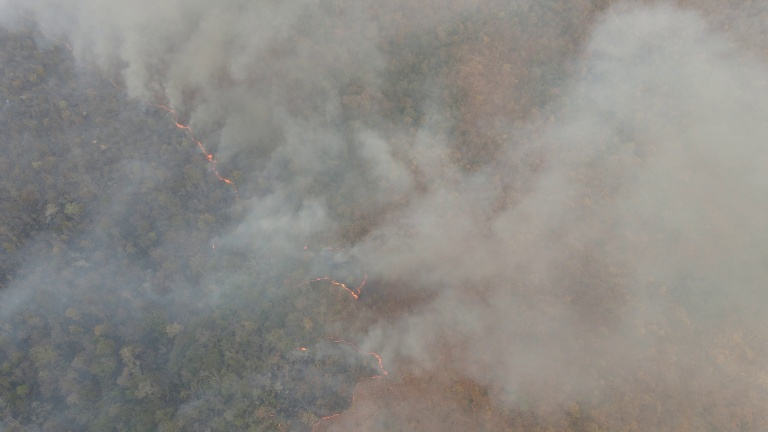fire: (147, 97, 254, 229), (295, 332, 395, 428), (47, 28, 134, 97), (295, 267, 373, 310), (205, 238, 224, 253)
smoke: (378, 15, 768, 377), (4, 4, 422, 226)
